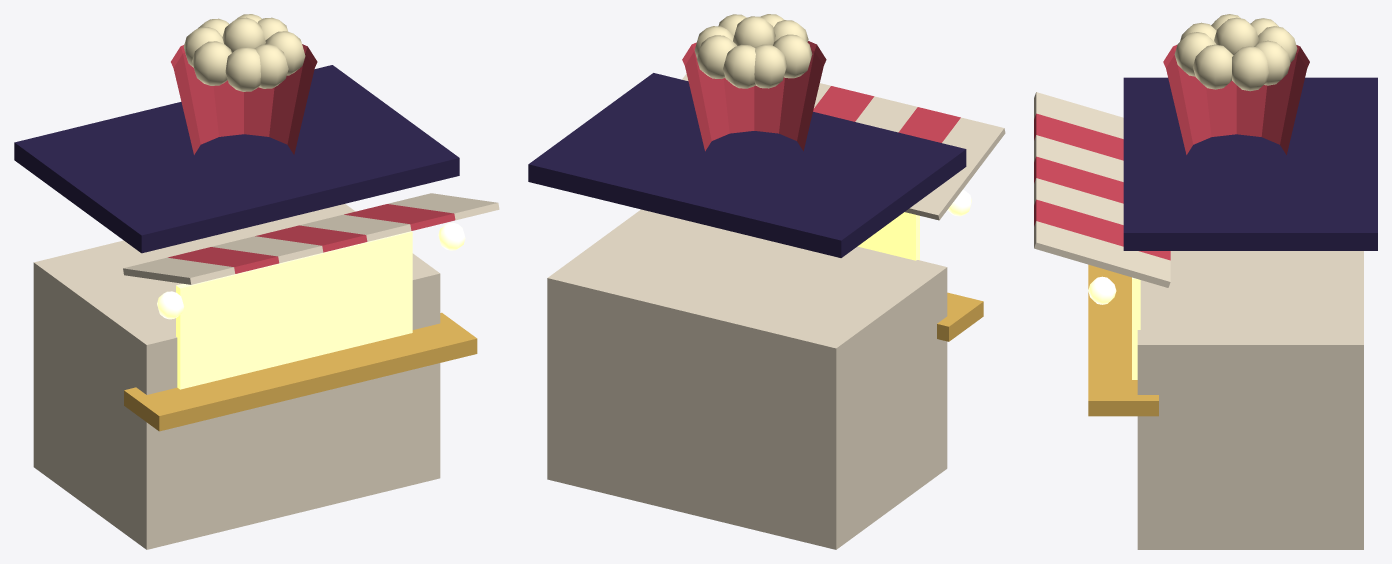
The model's file is kiosk.glb.
3 renders of one model, left to right at view 1: azimuth 30°, elevation 25°; view 2: azimuth 150°, elevation 25°; view 3: azimuth 270°, elevation 25°, orthographic.
Parts seen in each view (by area): view 1: kiosk; view 2: kiosk; view 3: kiosk.
Part boxes in pixels (x1,y1,x2,y2): kiosk: (14,14,499,549); kiosk: (528,14,1005,549); kiosk: (1034,14,1377,549).
Bounding box in the file's own units: 2.6 × 3.58 × 2.43.
